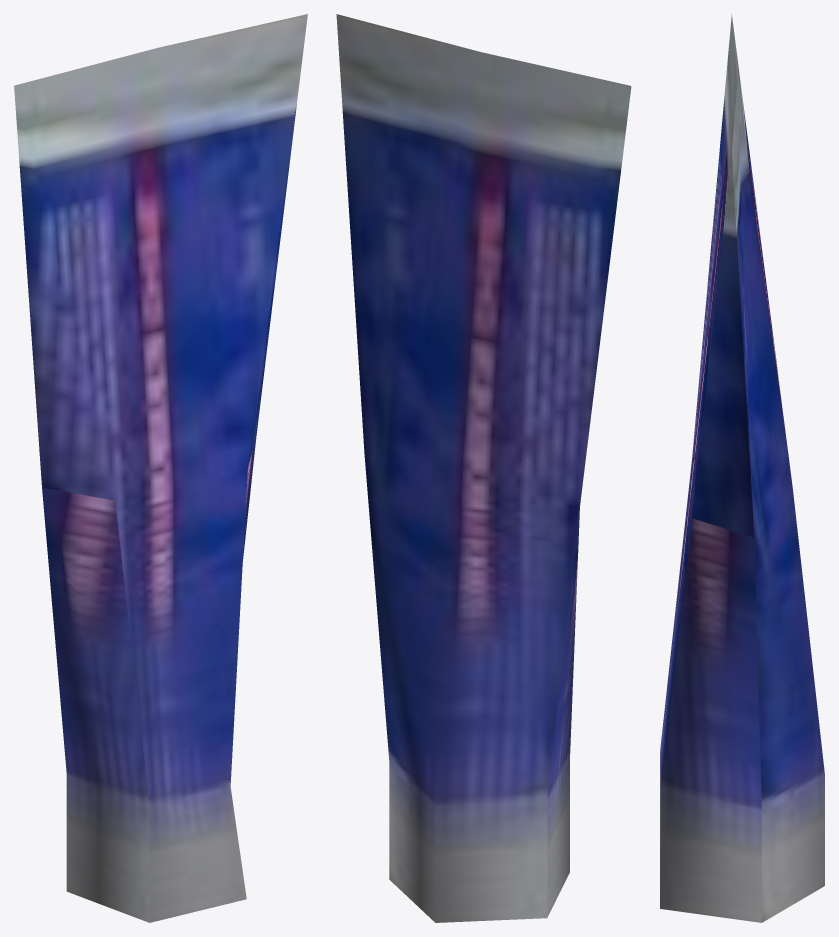
File: toothpaste_01.glb
3 views of the same model, side by side, from view 1: azimuth 30°, elevation 25°; view 2: azimuth 150°, elevation 25°; view 3: azimuth 270°, elevation 25° (orthographic). The views are drawn at different scales.
Visible parts, largest first — view 1: toothpaste_01; view 2: toothpaste_01; view 3: toothpaste_01.
Boxes of the visible parts, x1,y1,x2,y2 form: toothpaste_01: (14, 14, 307, 922); toothpaste_01: (336, 14, 631, 922); toothpaste_01: (660, 14, 824, 922).
Size of the model in its own units: 0.0721 by 0.1955 by 0.0363.
Materials: 1 (1 with a texture image).
